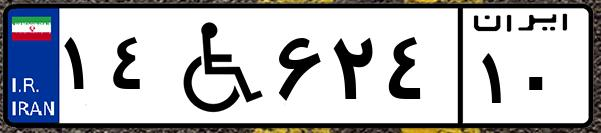0: (525, 38, 570, 115)
1: (57, 26, 110, 100), (475, 38, 525, 113)
2: (330, 28, 385, 110)
4: (385, 28, 445, 110), (110, 28, 158, 98)
6: (270, 28, 330, 110)
ژ (معلولین و جانبازان): (158, 12, 270, 120)
